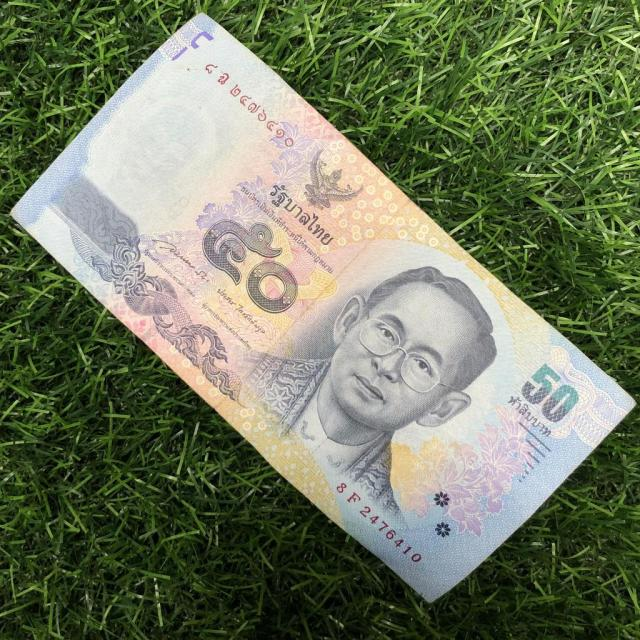THAI50: (12, 14, 634, 602)
